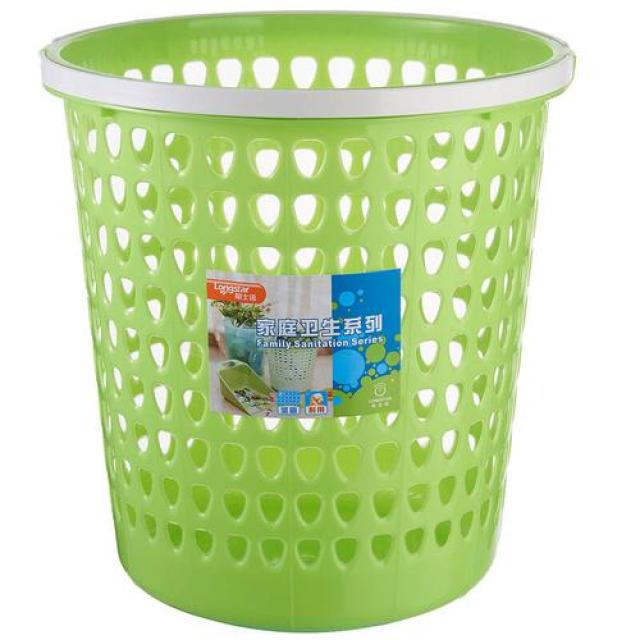dustbin: (34, 5, 584, 635)
